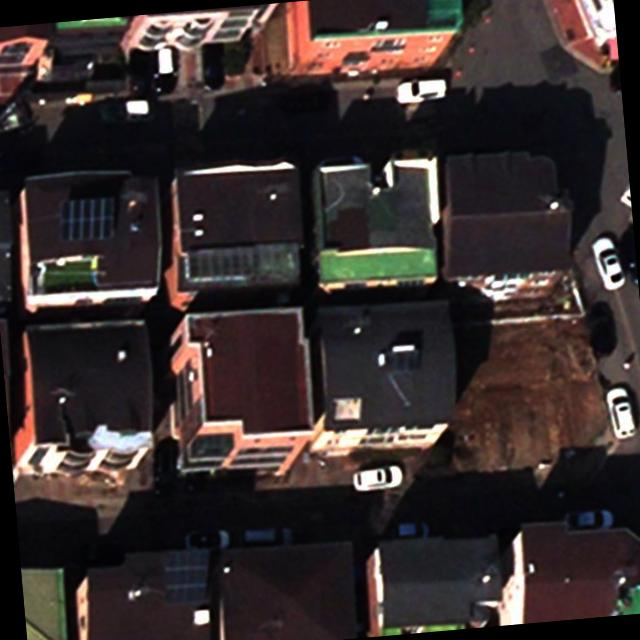solar: (157, 543, 220, 607), (55, 194, 121, 242)
